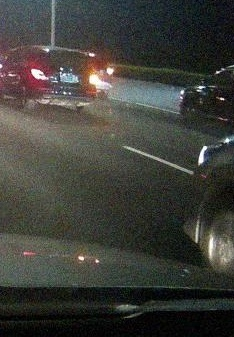L_light: (30, 68, 49, 81)
R_light: (89, 73, 96, 83)
T_light: (61, 50, 74, 53)
night-right: (28, 48, 97, 111)
